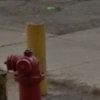Hydrant: (6, 41, 49, 100)
